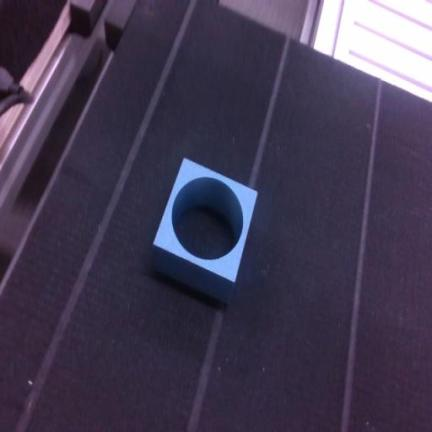hole: (154, 159, 257, 302)
